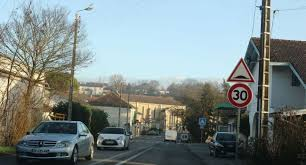Speed_limit_30km: (228, 83, 253, 107)
car: (15, 119, 95, 165), (95, 123, 132, 151)
